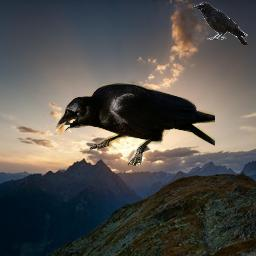Crow: (54, 82, 215, 167), (192, 2, 248, 45)
